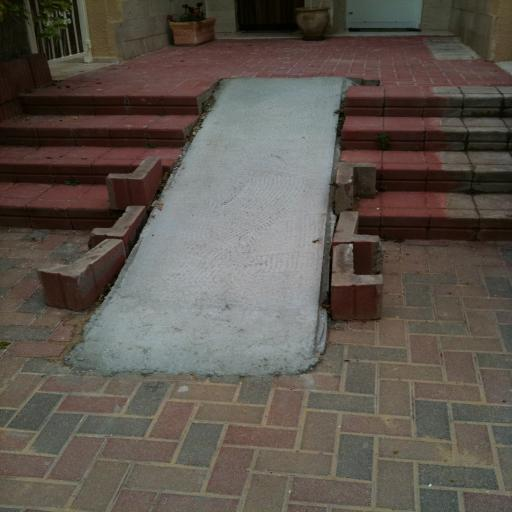ramp: (67, 86, 352, 376)
stairs: (336, 85, 508, 260), (4, 94, 199, 230)
